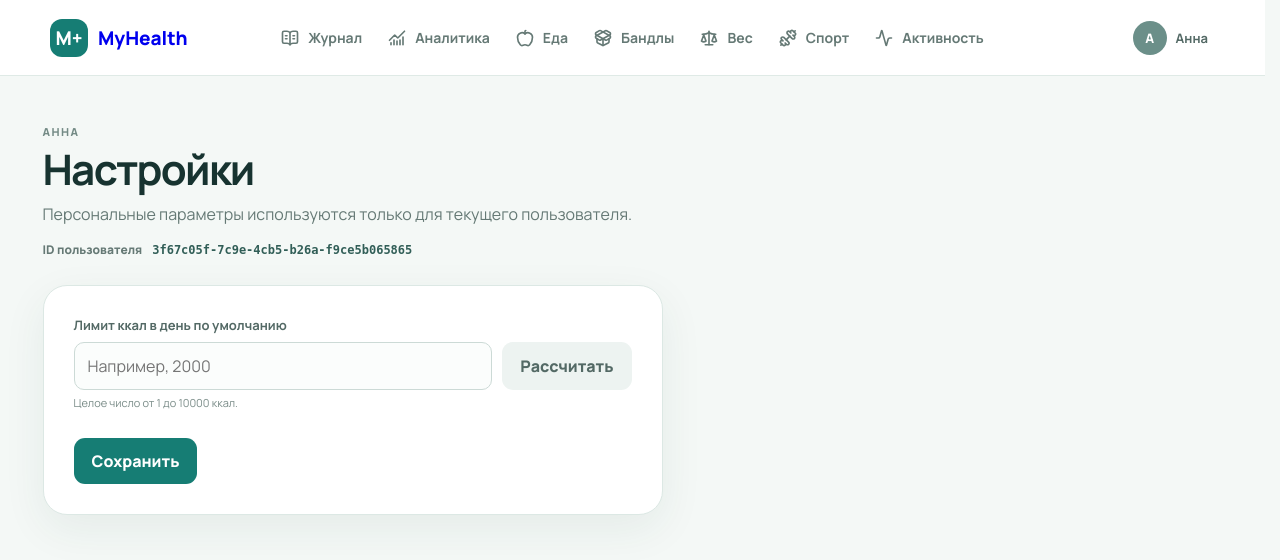
MyHealth SPA › показывает ошибку лимита под полем
This screenshot has width=1280, height=560.
Type "10001" into the field labelled "Лимит ккал в день по умолчанию" at (283,366), box [74,342,492,390]
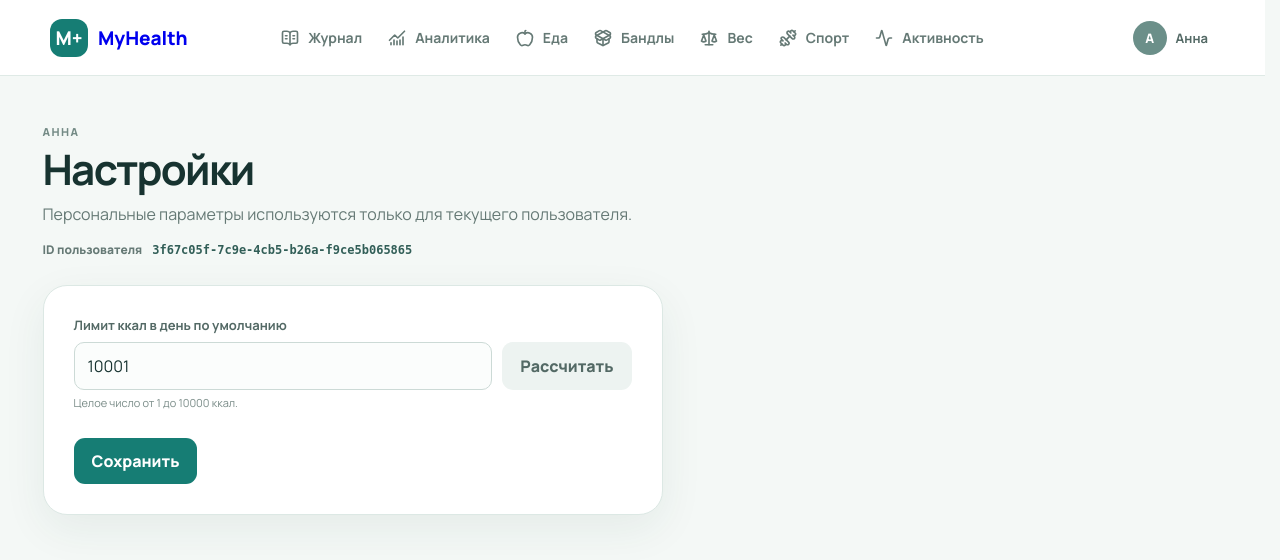
Click the button "Сохранить" at (136,461), box [74,438,198,484]
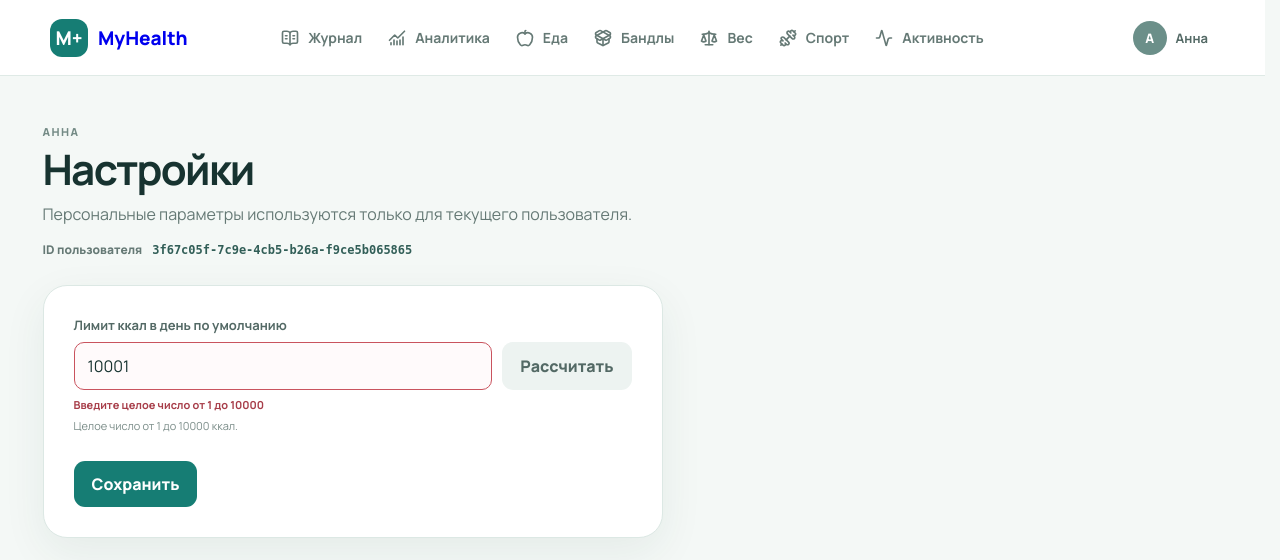
Expected: the text "Введите целое число от 1 до 10000" is shown, [74,397,264,412]
